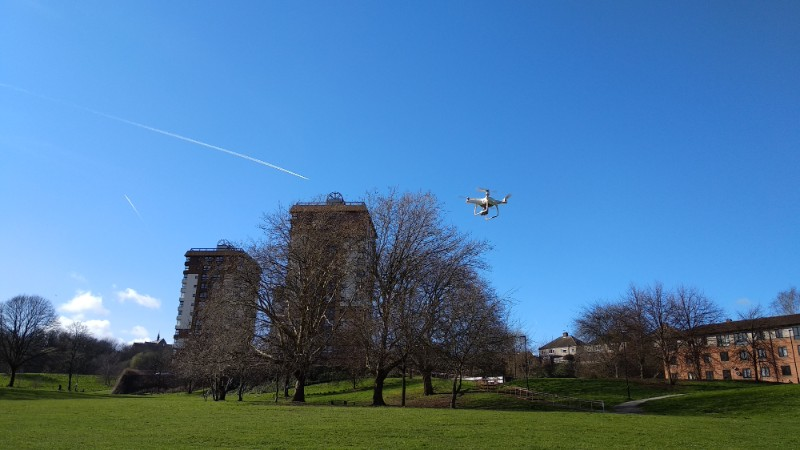drone: (458, 185, 513, 222)
